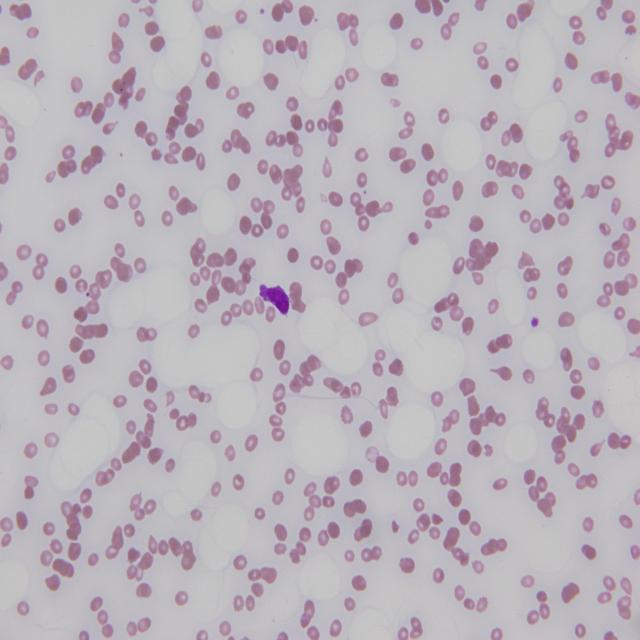cell: (260, 284, 290, 314)
